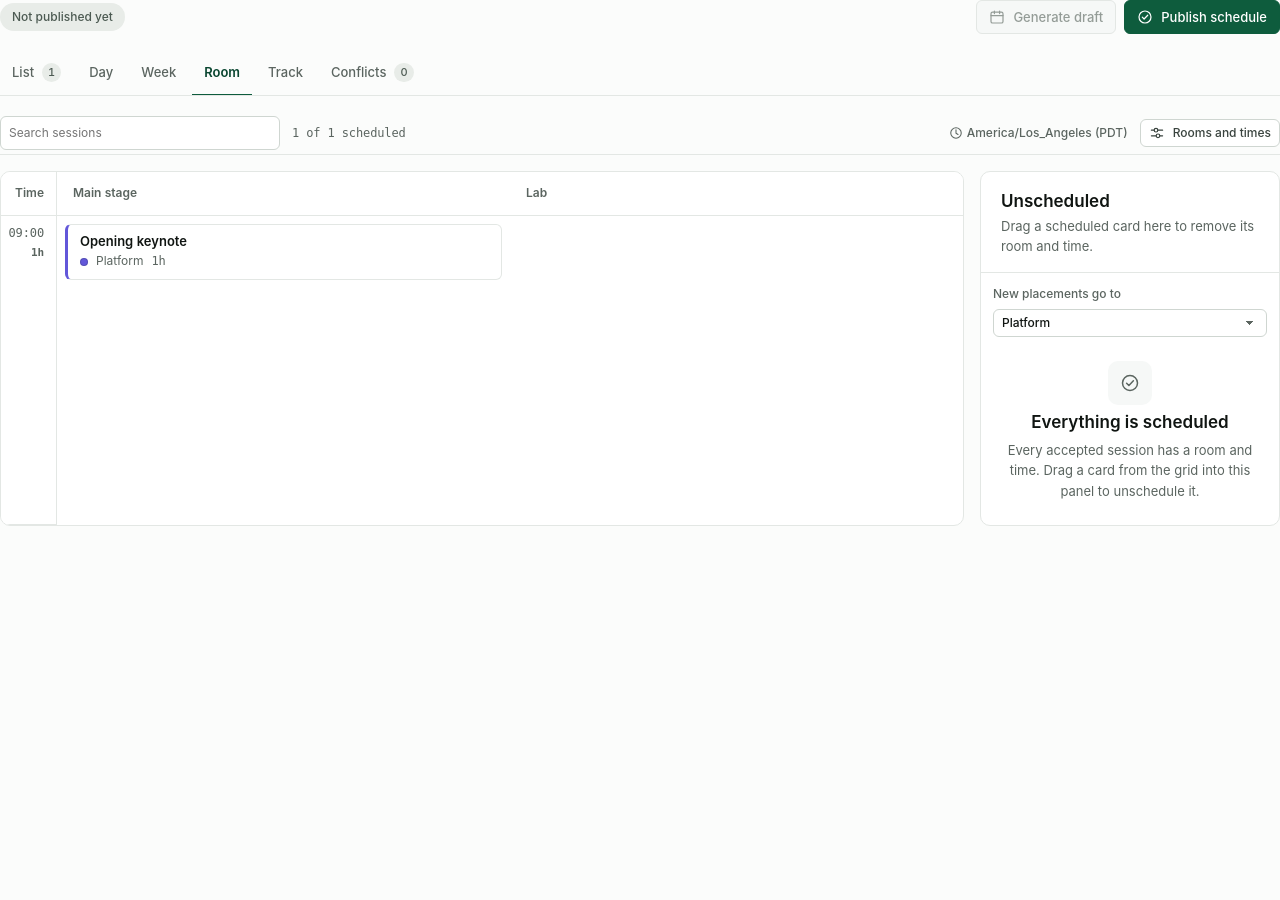
Test: AgendaWorkspace failure feedback › does not invent a public count when field policy hides publication readiness
Click the button "Publish schedule": (1202, 17) [1124,0,1279,34]
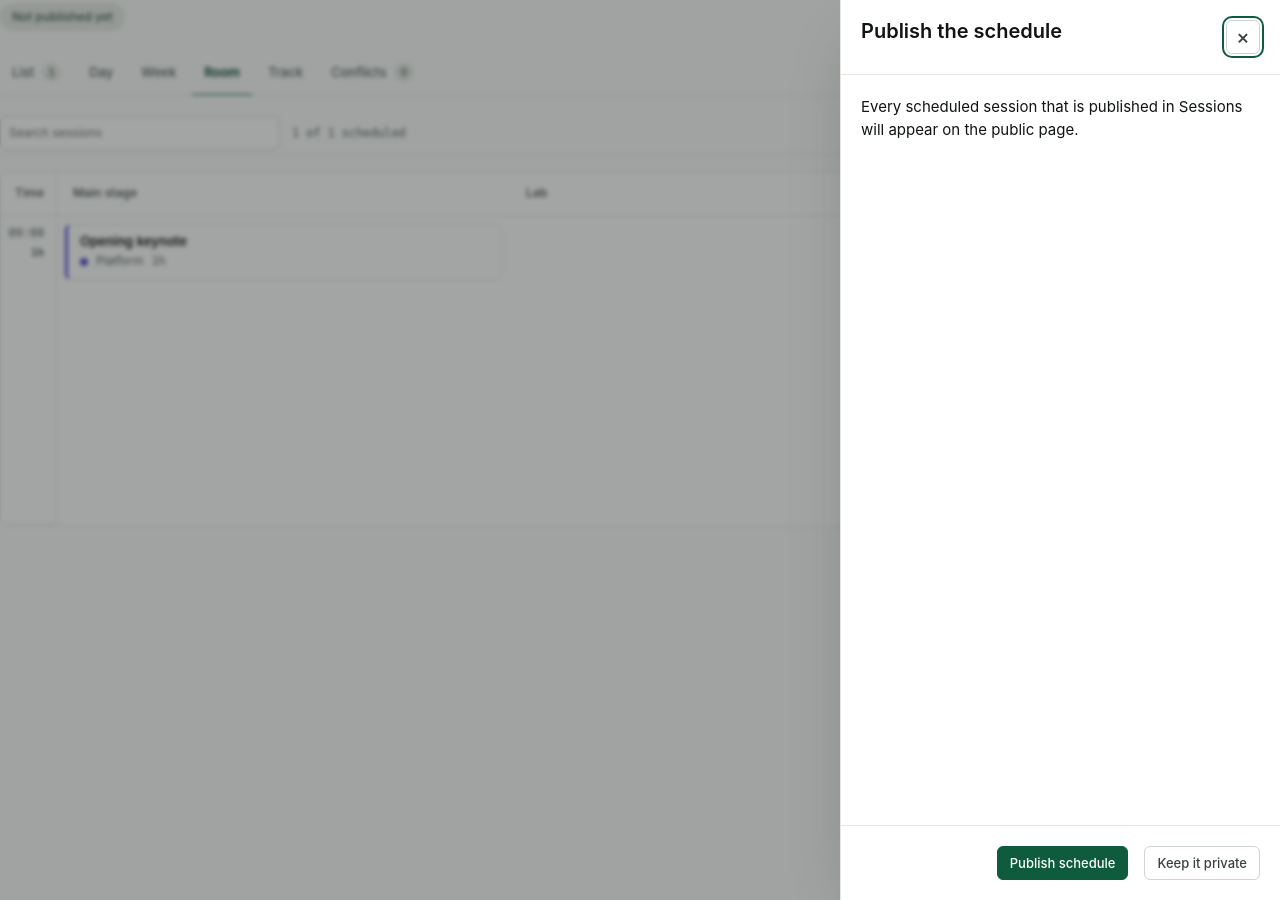
Check: the text "Every scheduled session that is published in Sessions will appear on the public page." is shown, box [861,97,1242,139]
